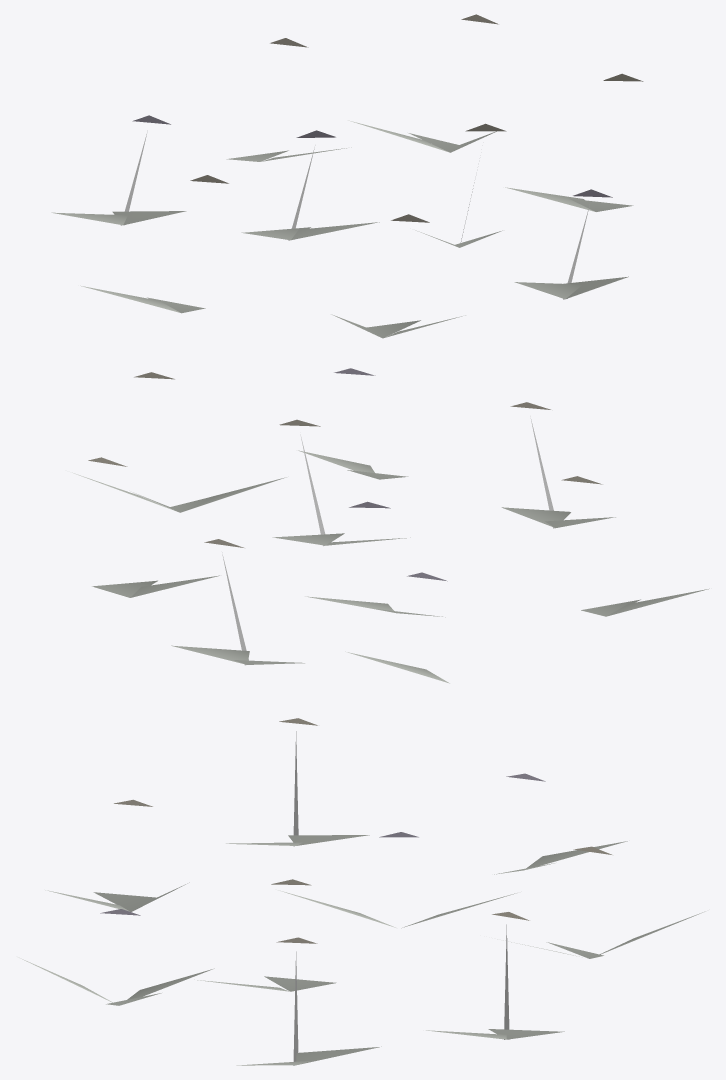
File: biome_wildflowers_lod1.glb
The picture shows the model from 3 angles, top to bottom: view 1: azimuth 30°, elevation 25°; view 2: azimuth 150°, elevation 25°; view 3: azimuth 270°, elevation 25°; orthographic projection. The views are drawn at different scales.
Parts seen in each view (by area): view 1: biome_wildflowers_LOD1; view 2: biome_wildflowers_LOD1; view 3: biome_wildflowers_LOD1.
Boxes of the visible parts, box(x1,y1,x2,y2) form: biome_wildflowers_LOD1: box(51, 14, 643, 338); biome_wildflowers_LOD1: box(72, 368, 709, 683); biome_wildflowers_LOD1: box(18, 718, 705, 1065).
Bounding box in the file's own units: 3.12 × 0.645 × 2.87.
